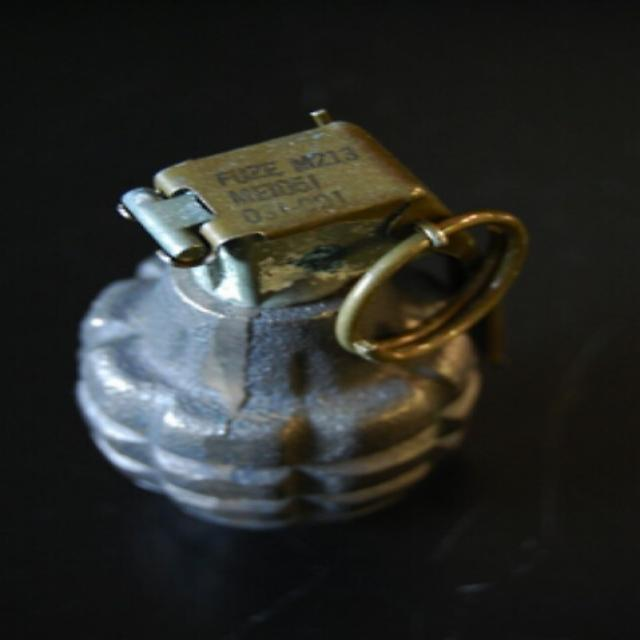bomb: (50, 121, 518, 556)
